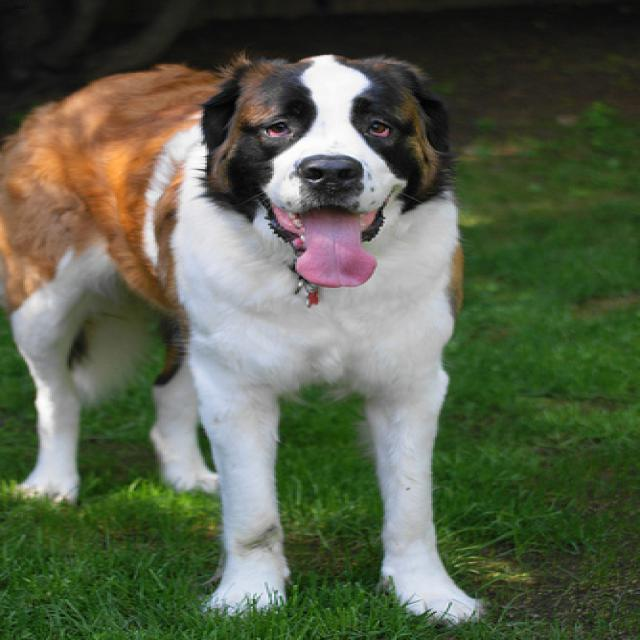dog-saint_bernard: (2, 45, 496, 631)
